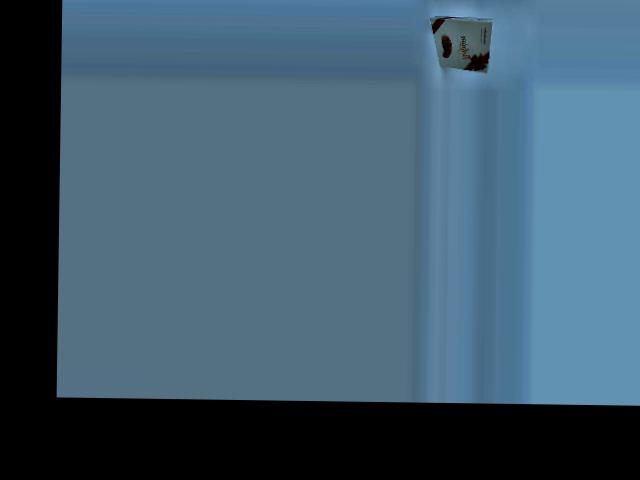chocolate: (427, 4, 491, 74)
